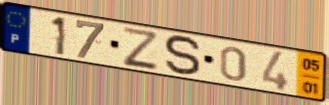0: (218, 45, 251, 82)
1: (49, 15, 68, 56)
4: (260, 49, 290, 93)
7: (73, 18, 107, 60)
S: (163, 34, 203, 77)
Z: (120, 25, 161, 71)
